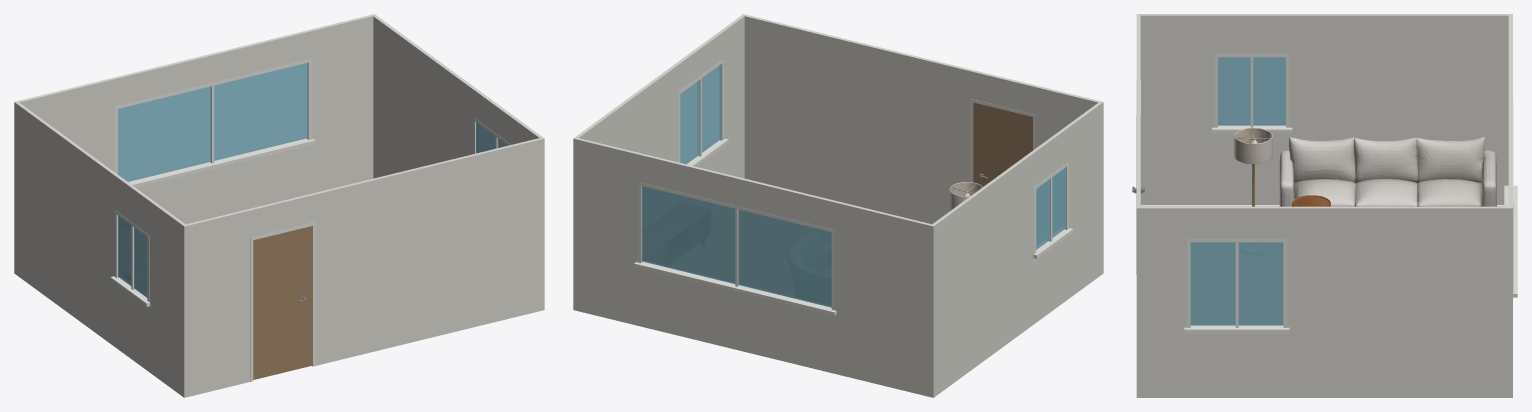
Rendered from scenesmith.glb.
3 views of the same model, side by side, from view 1: azimuth 30°, elevation 25°; view 2: azimuth 150°, elevation 25°; view 3: azimuth 270°, elevation 25° (orthographic). The views are drawn at different scales.
Visible parts, largest first — view 1: scene_076_living_room_south_wall, scene_076_living_room_north_wall, scene_076_living_room_west_wall, scene_076_living_room_north_wall Window 0 | glazing, scene_076_living_room_east_wall, scene_076_living_room_south_wall Door 0 | wood leaf, scene_076_living_room_north_wall Window 0 | jamb, scene_076_living_room_west_wall Window 0 | glazing, scene_076_living_room_south_wall Door 0 | jamb, scene_076_living_room_west_wall Window 0 | jamb, scene_076_living_room_east_wall Window 0 | glazing; view 2: scene_076_living_room_north_wall, scene_076_living_room_south_wall, scene_076_living_room_west_wall, scene_076_living_room_north_wall Window 0 | glazing, scene_076_living_room_east_wall, scene_076_living_room_south_wall Door 0 | wood leaf, scene_076_living_room_north_wall Window 0 | jamb, scene_076_living_room_east_wall Window 0 | glazing, scene_076_living_room_west_wall Window 0 | glazing, scene_076_living_room_east_wall Window 0 | jamb, scene_076_living_room_west_wall Window 0 | jamb, scene_076_living_room_south_wall Door 0 | jamb (+1 smaller); view 3: scene_076_living_room_east_wall, scene_076_living_room_west_wall, furniture_group, scene_076_living_room_east_wall Window 0 | glazing, scene_076_living_room_west_wall Window 0 | glazing, scene_076_living_room_east_wall Window 0 | jamb, scene_076_living_room_north_wall, scene_076_living_room_south_wall, scene_076_living_room_west_wall Window 0 | jamb, scene_076_living_room_north_wall Window 0 | jamb.
Boxes of the visible parts, x1,y1,x2,y2 form: scene_076_living_room_south_wall: (182, 138, 544, 397); scene_076_living_room_north_wall: (14, 14, 375, 274); scene_076_living_room_west_wall: (15, 101, 187, 396); scene_076_living_room_north_wall Window 0 | glazing: (118, 62, 307, 181); scene_076_living_room_east_wall: (373, 15, 544, 178); scene_076_living_room_south_wall Door 0 | wood leaf: (253, 226, 312, 379); scene_076_living_room_north_wall Window 0 | jamb: (115, 58, 315, 187); scene_076_living_room_west_wall Window 0 | glazing: (118, 216, 147, 297); scene_076_living_room_south_wall Door 0 | jamb: (250, 222, 315, 381); scene_076_living_room_west_wall Window 0 | jamb: (110, 210, 150, 306); scene_076_living_room_east_wall Window 0 | glazing: (476, 122, 507, 153); scene_076_living_room_north_wall: (573, 137, 935, 397); scene_076_living_room_south_wall: (744, 15, 1103, 274); scene_076_living_room_west_wall: (930, 101, 1103, 396); scene_076_living_room_north_wall Window 0 | glazing: (641, 186, 831, 307); scene_076_living_room_east_wall: (575, 14, 746, 178); scene_076_living_room_south_wall Door 0 | wood leaf: (973, 102, 1032, 186); scene_076_living_room_north_wall Window 0 | jamb: (634, 182, 836, 315); scene_076_living_room_east_wall Window 0 | glazing: (680, 64, 721, 164); scene_076_living_room_west_wall Window 0 | glazing: (1036, 167, 1065, 249); scene_076_living_room_east_wall Window 0 | jamb: (678, 59, 728, 166); scene_076_living_room_west_wall Window 0 | jamb: (1033, 162, 1073, 258); scene_076_living_room_south_wall Door 0 | jamb: (970, 98, 1035, 182); scene_076_living_room_east_wall: (1136, 206, 1508, 397); scene_076_living_room_west_wall: (1136, 14, 1512, 205); furniture_group: (1234, 128, 1496, 206); scene_076_living_room_east_wall Window 0 | glazing: (1190, 242, 1283, 325); scene_076_living_room_west_wall Window 0 | glazing: (1218, 57, 1285, 125); scene_076_living_room_east_wall Window 0 | jamb: (1184, 238, 1289, 333); scene_076_living_room_north_wall: (1508, 15, 1512, 397); scene_076_living_room_south_wall: (1136, 15, 1140, 397); scene_076_living_room_west_wall Window 0 | jamb: (1212, 53, 1292, 133); scene_076_living_room_north_wall Window 0 | jamb: (1504, 98, 1517, 297).
Size of the model in its own units: 5.61 by 2.51 by 4.6.
Materials: 14 (8 with a texture image).
